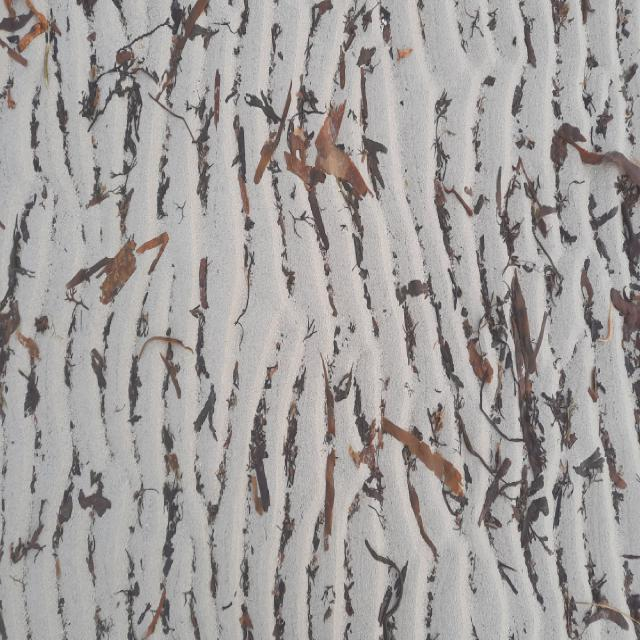white-sand: (0, 0, 639, 639)
